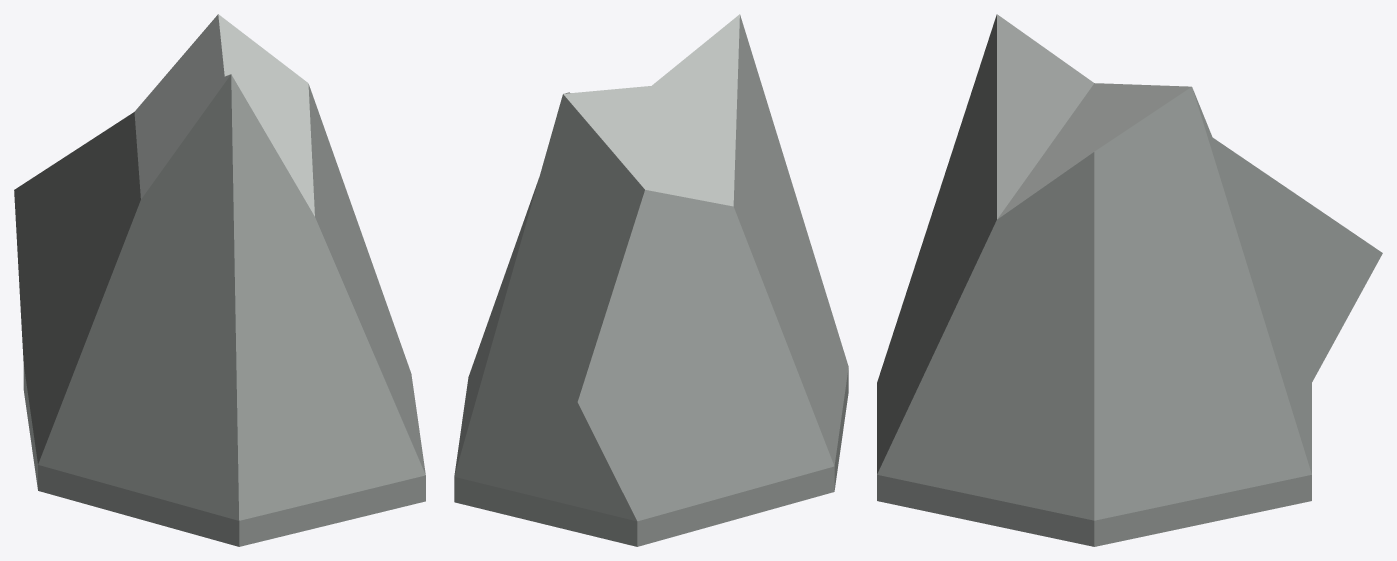
File: Mountain4.fbx
3 views of the same model, side by side, from view 1: azimuth 30°, elevation 25°; view 2: azimuth 150°, elevation 25°; view 3: azimuth 270°, elevation 25° (orthographic). The views are drawn at different scales.
Parts seen in each view (by area): view 1: Mountain4; view 2: Mountain4; view 3: Mountain4.
Boxes of the visible parts, x1=… form: Mountain4: x1=14, y1=14, x2=425, y2=546; Mountain4: x1=454, y1=14, x2=848, y2=546; Mountain4: x1=877, y1=14, x2=1382, y2=546.
Size of the model in its own units: 1500 by 1600 by 1745.
